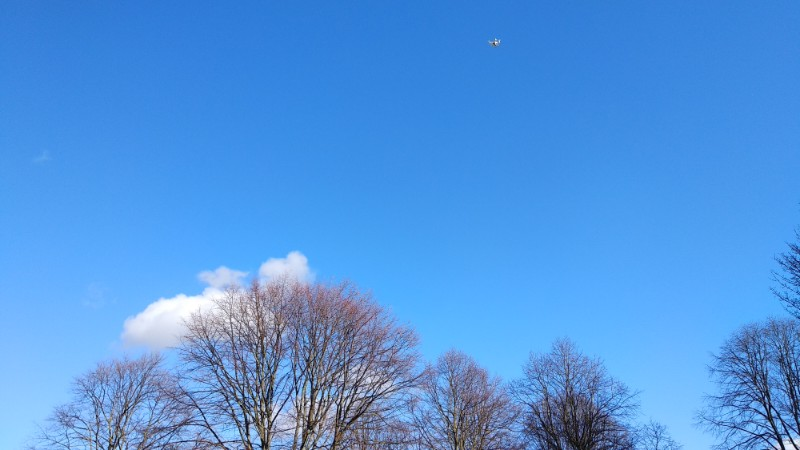drone: (490, 37, 502, 47)
